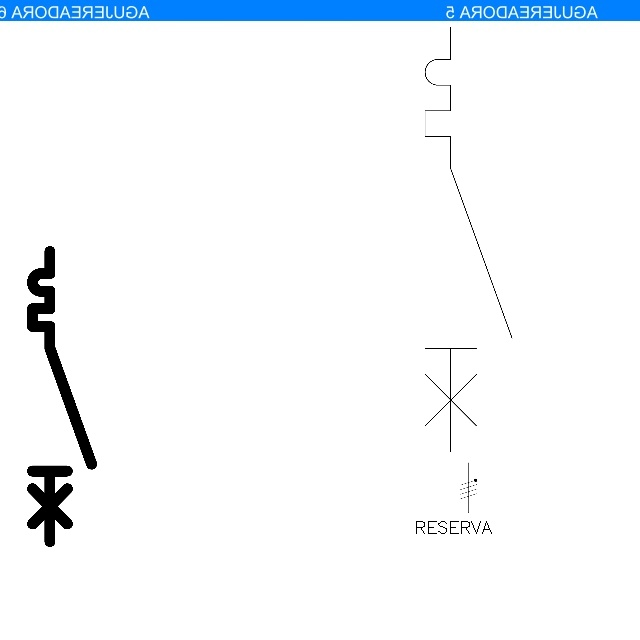interruptor_termomagnetico: (414, 16, 523, 462), (25, 244, 99, 549)
